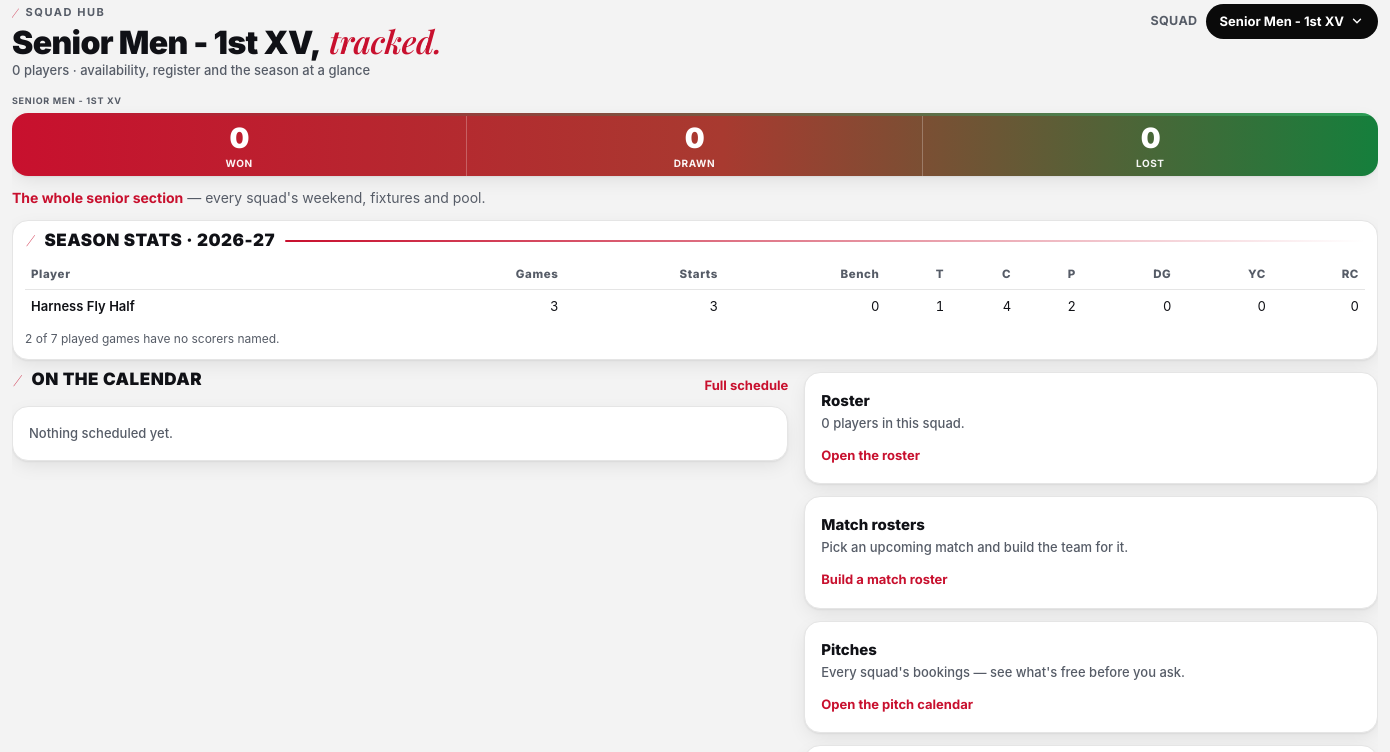
it: the squad page — season stats › drops the previous squad's gap sentence when a same-mount switch fails
The width and height of the screenshot is (1390, 752).
expect the text "2 of 7 played games have no scorers named." is shown: met, box [25,331,280,346]
Click the dropdown named "Squad" at coordinates (1292, 21), box [1206,4,1378,39]
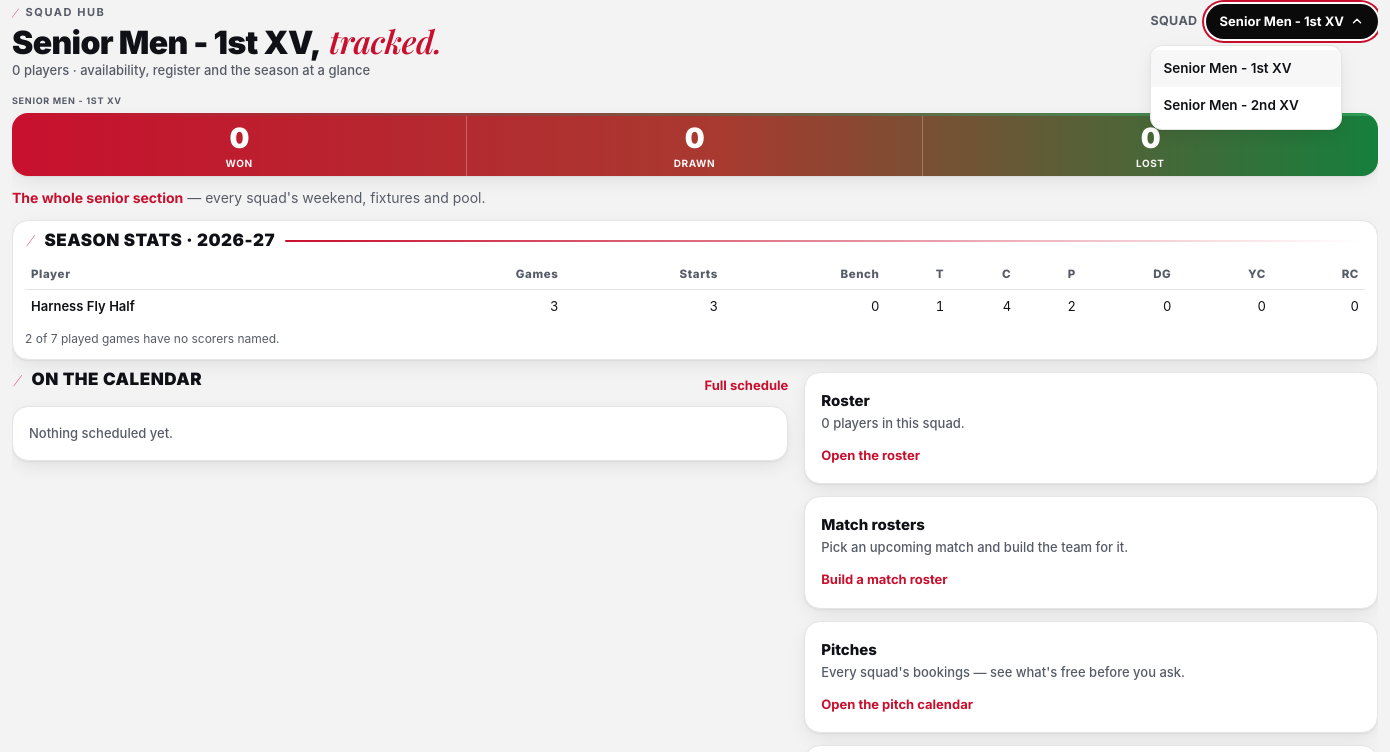
Click the option "Senior Men - 2nd XV" at coordinates (1246, 106), box [1151,87,1341,125]
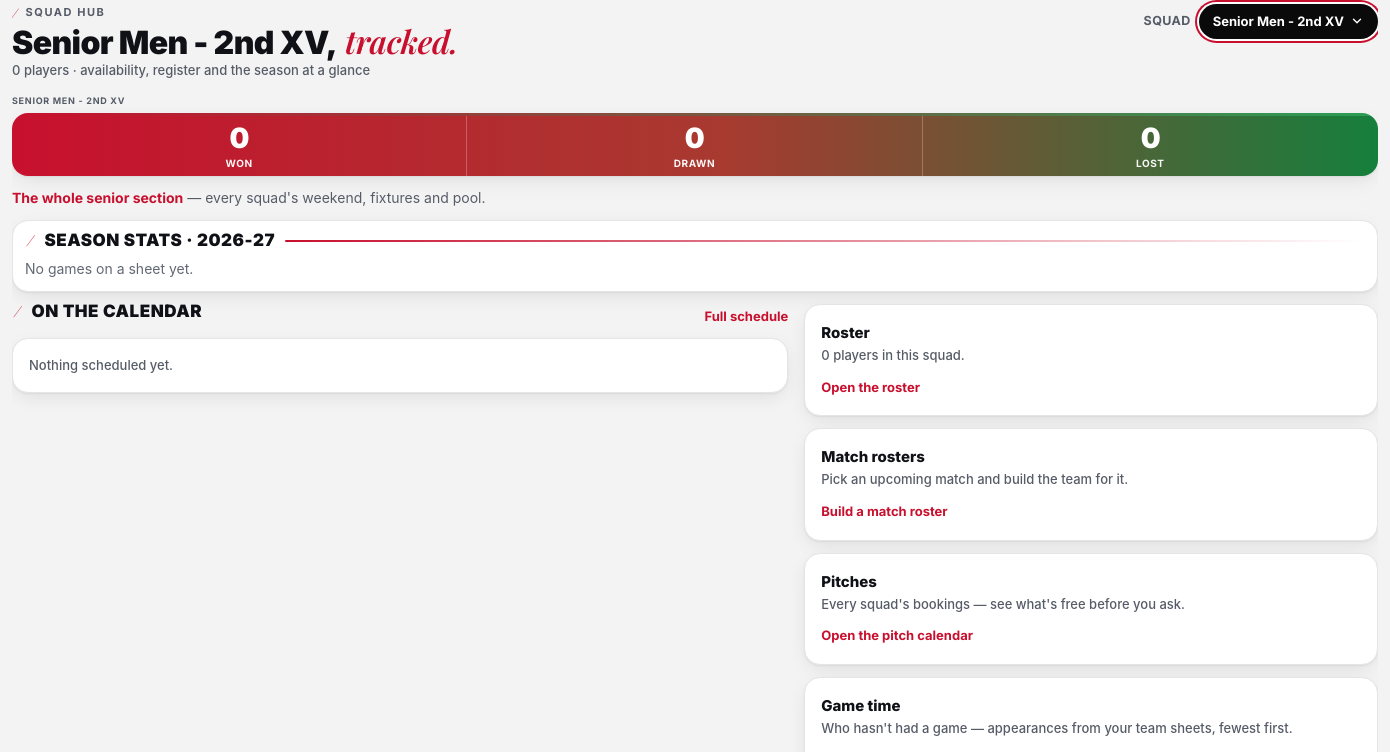
expect the text "played games have no scorers named" is gone: met
expect the text "No games on a sheet yet." is shown: met, box [25,260,193,277]
